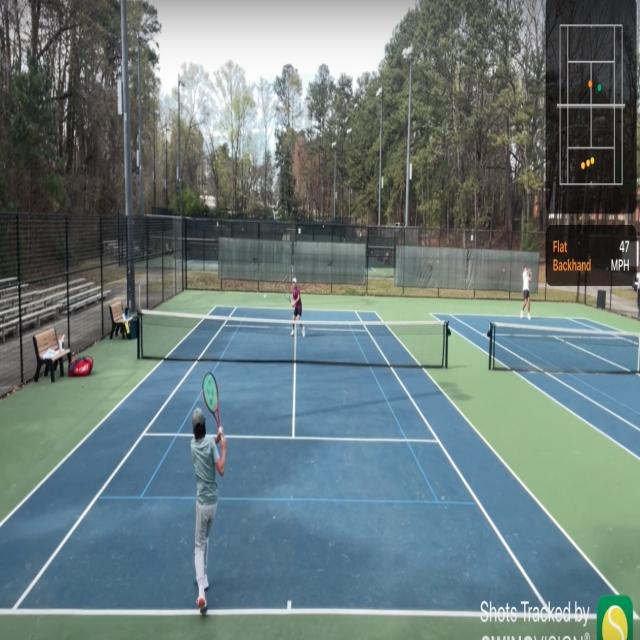ball: (264, 293, 266, 299)
